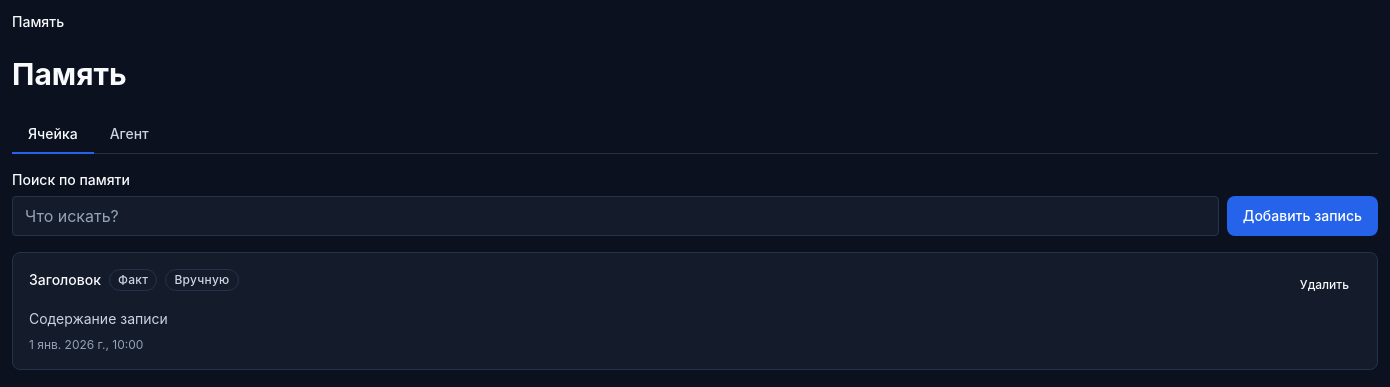
MemoryPanelPage › searches cell memory via the search box
This screenshot has width=1390, height=387.
Expected: the text "Содержание записи" is shown, [29, 310, 168, 327]
Type "запрос" into the search field labelled "Поиск по памяти". click: [615, 216]
box: [12, 196, 1219, 236]
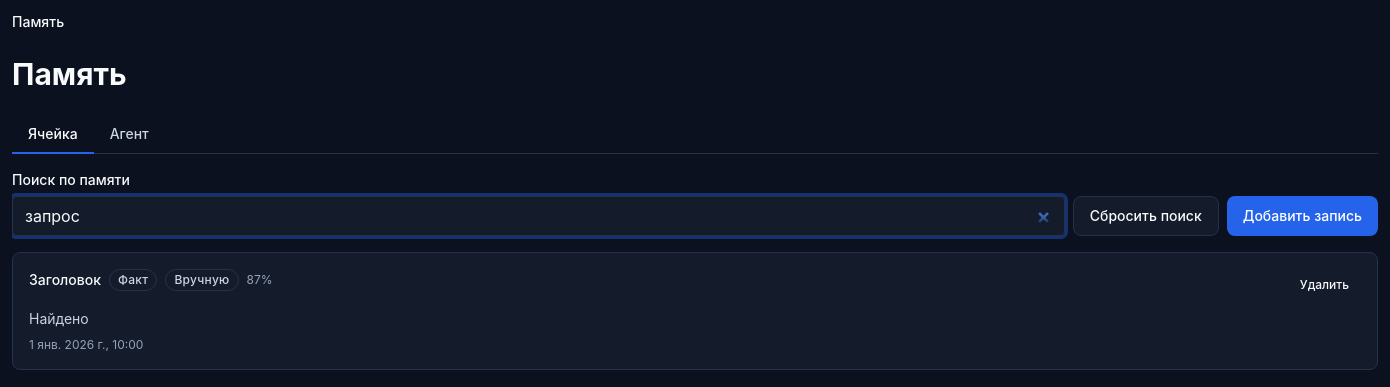
Now the text "Найдено" is shown, box [29, 310, 89, 327]
